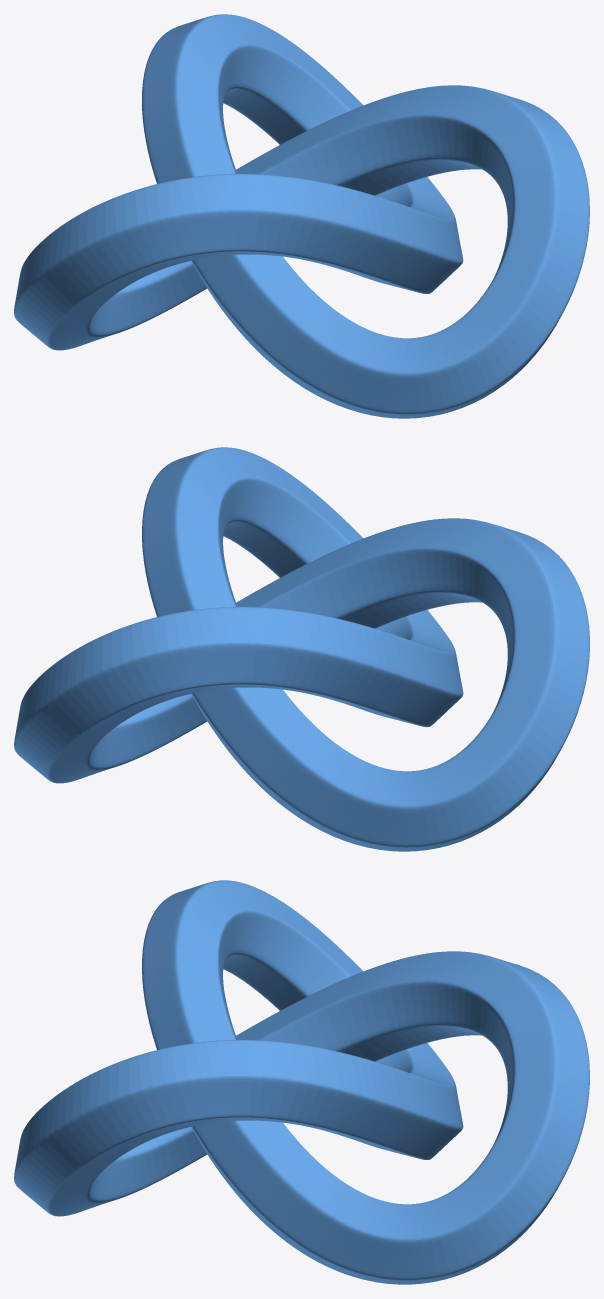
File: asset.glb
3 views of the same model, one above another, from view 1: azimuth 30°, elevation 25°; view 2: azimuth 150°, elevation 25°; view 3: azimuth 270°, elevation 25° (orthographic).
Parts seen in each view (by area): view 1: TorusKnot.001; view 2: TorusKnot.001; view 3: TorusKnot.001.
Boxes of the visible parts, box(x1,y1,x2,y2) form: TorusKnot.001: box(14, 14, 589, 418); TorusKnot.001: box(14, 447, 589, 851); TorusKnot.001: box(14, 880, 589, 1284).
Bounding box in the file's own units: 5.96 × 2.93 × 6.35.
